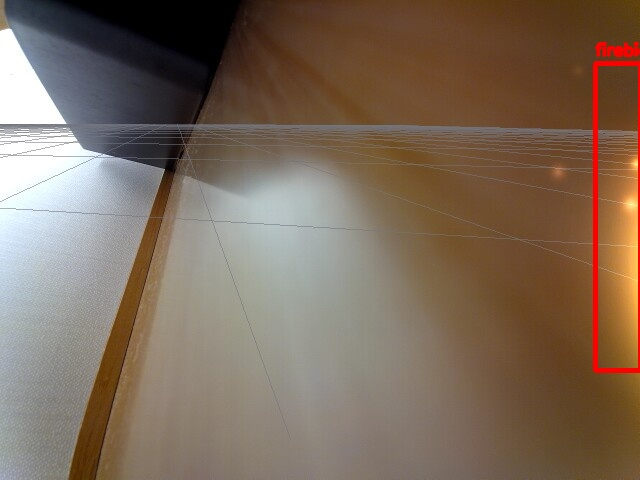firebig: (595, 63, 640, 370)
